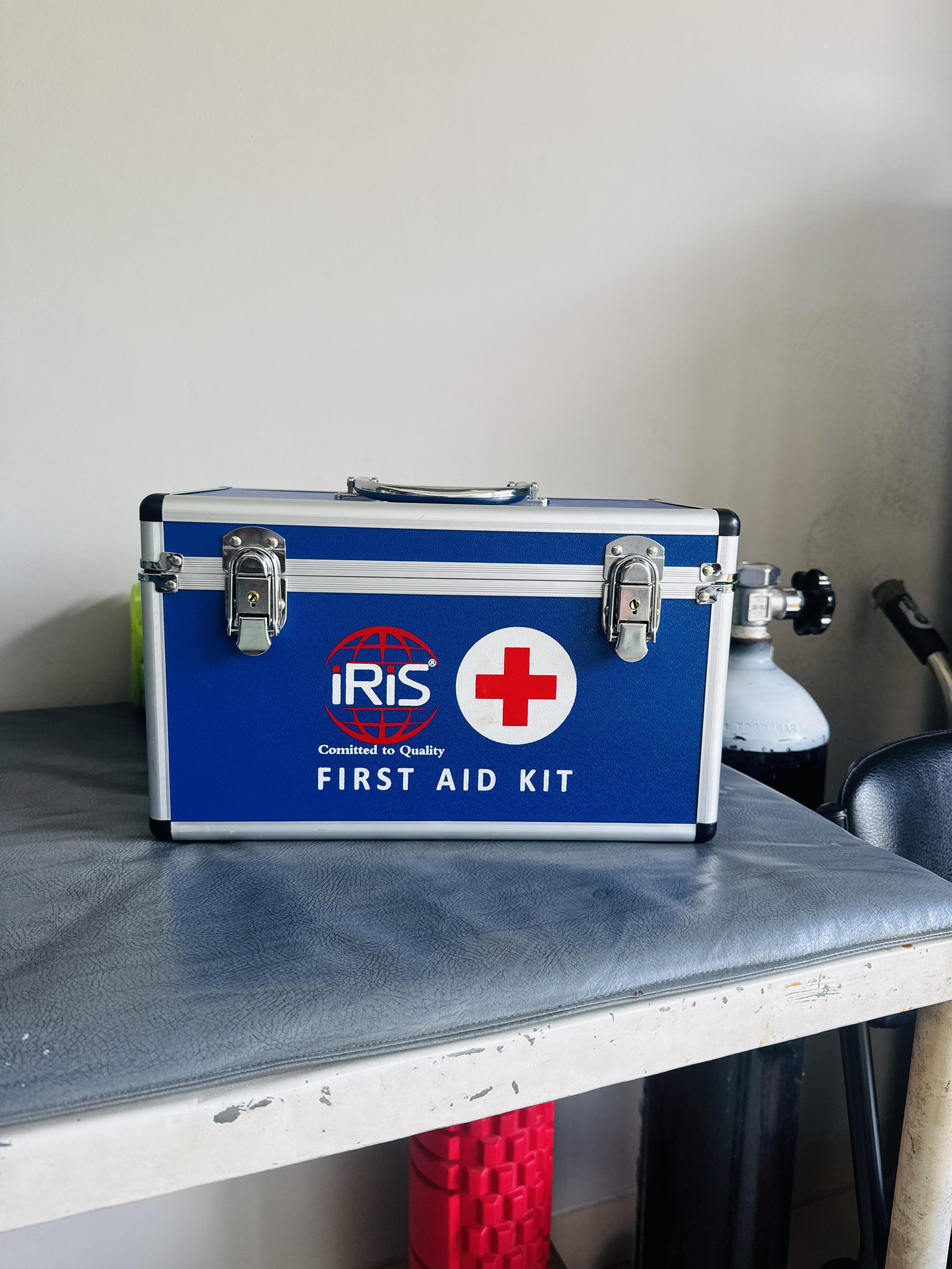FirstAidBox: (120, 440, 766, 877)
